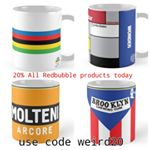cups: (6, 3, 74, 71), (86, 3, 150, 73), (85, 78, 140, 150), (7, 78, 62, 145)
